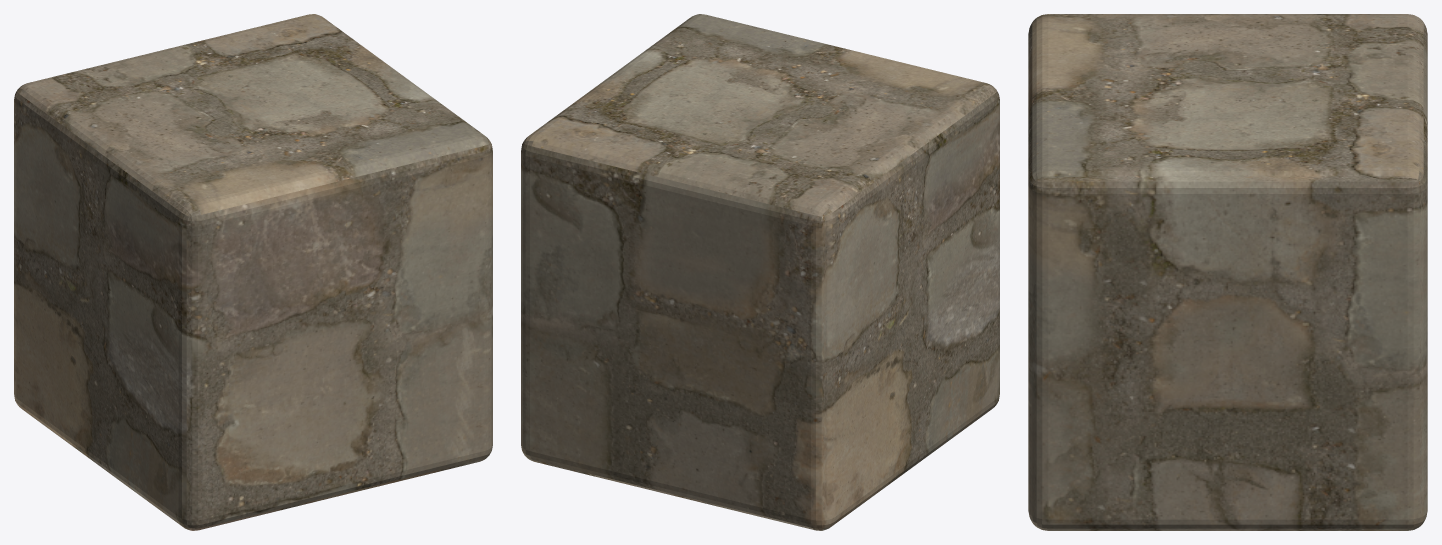
3 renders of one model, left to right at view 1: azimuth 30°, elevation 25°; view 2: azimuth 150°, elevation 25°; view 3: azimuth 270°, elevation 25°, orthographic. The views are drawn at different scales.
Parts seen in each view (by area): view 1: BeveledCube; view 2: BeveledCube; view 3: BeveledCube.
Boxes of the visible parts, box(x1,y1,x2,y2) form: BeveledCube: box(14, 14, 492, 530); BeveledCube: box(521, 14, 999, 530); BeveledCube: box(1028, 14, 1427, 530).
Bounding box in the file's own units: 2 × 2 × 2.
Materials: 1 (1 with a texture image).
